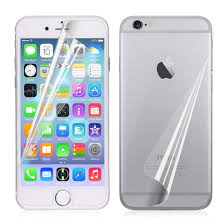iphone: (115, 11, 214, 212), (13, 12, 112, 213)
iphone6: (12, 11, 111, 212), (115, 12, 214, 213)
